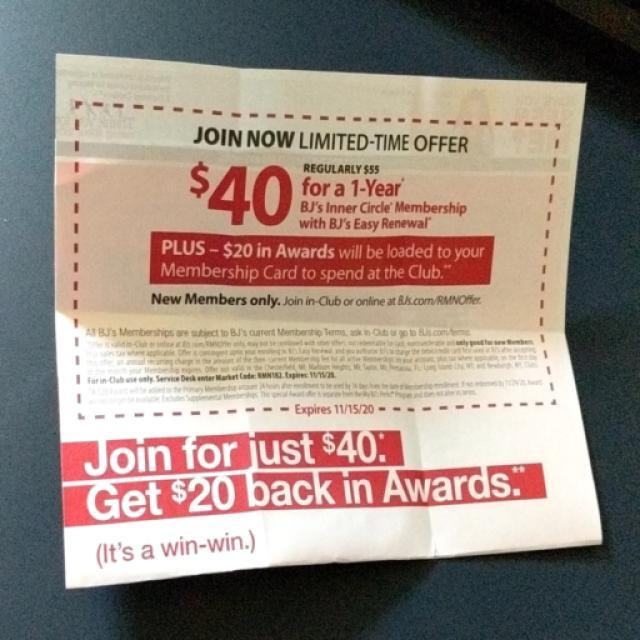document: (55, 55, 601, 588)
